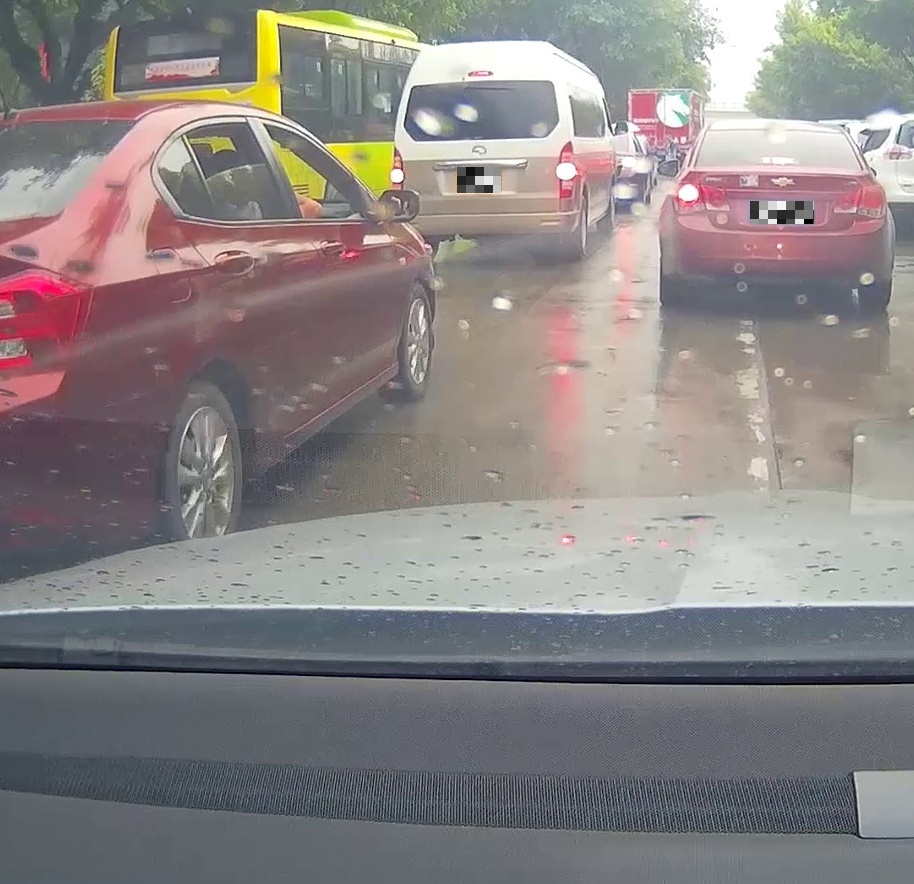L_light: (674, 180, 731, 214), (390, 147, 405, 191)
R_light: (832, 184, 886, 218), (555, 140, 578, 199)
T_light: (762, 155, 796, 165), (467, 69, 495, 79)
day-brake: (390, 40, 580, 259)
day-left: (673, 119, 889, 302)
plate_1: (457, 167, 501, 193)
plate_2: (750, 201, 814, 224)
